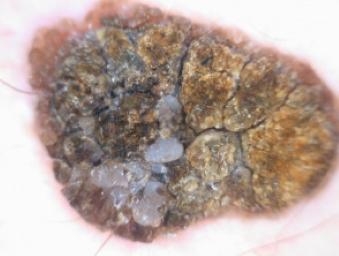seborrheic keratosis: (31, 2, 338, 246)
